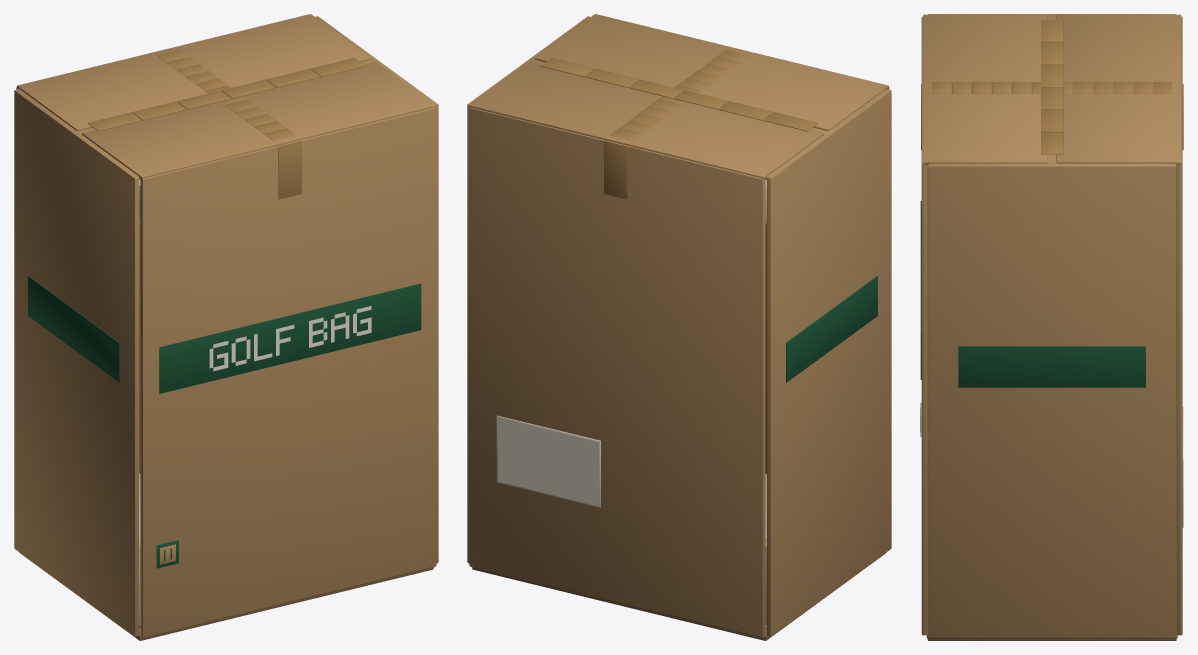
File: delivery_golf_bag_carton.glb
3 views of the same model, side by side, from view 1: azimuth 30°, elevation 25°; view 2: azimuth 150°, elevation 25°; view 3: azimuth 270°, elevation 25° (orthographic). The views are drawn at different scales.
Parts seen in each view (by area): view 1: BOX_FRONT, BOX_LEFT, FLAP_TOP_FRONT, FLAP_TOP_BACK, LABEL_MAIN, CATEGORY_SIDE_BAND_LEFT, TAPE_CENTER, LABEL_CATEGORY_TEXT, BOX_RIGHT, TAPE_SIDE_FRONT, BOX_BASE; view 2: BOX_BACK, BOX_LEFT, FLAP_TOP_BACK, FLAP_TOP_FRONT, LABEL_DYNAMIC, CATEGORY_SIDE_BAND_LEFT, TAPE_CENTER, BOX_RIGHT, TAPE_SIDE_BACK, BOX_BASE, SHIPPING_LABEL_BACKING; view 3: BOX_RIGHT, FLAP_TOP_BACK, FLAP_TOP_FRONT, CATEGORY_SIDE_BAND_RIGHT, BOX_FRONT, BOX_BACK, TAPE_CENTER, FLAP_TOP_RIGHT, TAPE_CROSS_SEG_05, TAPE_CROSS_SEG_01, TAPE_CROSS_SEG_02, TAPE_CROSS_SEG_03 (+3 smaller).
Part boxes in pixels (left/top/right/bottom): BOX_FRONT: left=140, top=107, right=436, bottom=637; BOX_LEFT: left=14, top=89, right=139, bottom=636; FLAP_TOP_FRONT: left=82, top=61, right=435, bottom=179; FLAP_TOP_BACK: left=17, top=14, right=370, bottom=131; LABEL_MAIN: left=159, top=283, right=421, bottom=393; CATEGORY_SIDE_BAND_LEFT: left=28, top=276, right=119, bottom=382; TAPE_CENTER: left=157, top=50, right=295, bottom=140; LABEL_CATEGORY_TEXT: left=209, top=306, right=371, bottom=371; BOX_RIGHT: left=315, top=16, right=438, bottom=563; TAPE_SIDE_FRONT: left=278, top=141, right=301, bottom=199; BOX_BASE: left=19, top=552, right=433, bottom=640; BOX_BACK: left=469, top=107, right=765, bottom=637; BOX_LEFT: left=766, top=89, right=891, bottom=636; FLAP_TOP_BACK: left=470, top=61, right=823, bottom=179; FLAP_TOP_FRONT: left=535, top=14, right=888, bottom=131; LABEL_DYNAMIC: left=498, top=417, right=599, bottom=505; CATEGORY_SIDE_BAND_LEFT: left=786, top=276, right=877, bottom=382; TAPE_CENTER: left=610, top=50, right=748, bottom=140; BOX_RIGHT: left=467, top=16, right=590, bottom=563; TAPE_SIDE_BACK: left=604, top=141, right=627, bottom=199; BOX_BASE: left=472, top=552, right=886, bottom=640; SHIPPING_LABEL_BACKING: left=496, top=415, right=600, bottom=507; BOX_RIGHT: left=927, top=164, right=1176, bottom=637; FLAP_TOP_BACK: left=1056, top=14, right=1181, bottom=164; FLAP_TOP_FRONT: left=923, top=14, right=1047, bottom=165; CATEGORY_SIDE_BAND_RIGHT: left=958, top=346, right=1145, bottom=387; BOX_FRONT: left=921, top=16, right=927, bottom=635; BOX_BACK: left=1176, top=16, right=1182, bottom=635; TAPE_CENTER: left=932, top=82, right=1171, bottom=93; FLAP_TOP_RIGHT: left=929, top=154, right=1175, bottom=164; TAPE_CROSS_SEG_05: left=1041, top=109, right=1063, bottom=132; TAPE_CROSS_SEG_01: left=1041, top=20, right=1063, bottom=42; TAPE_CROSS_SEG_02: left=1041, top=42, right=1063, bottom=64; TAPE_CROSS_SEG_03: left=1041, top=65, right=1063, bottom=87.
Size of what is drawn, in the model's own units: 0.7242 by 1.06 by 0.5252.
